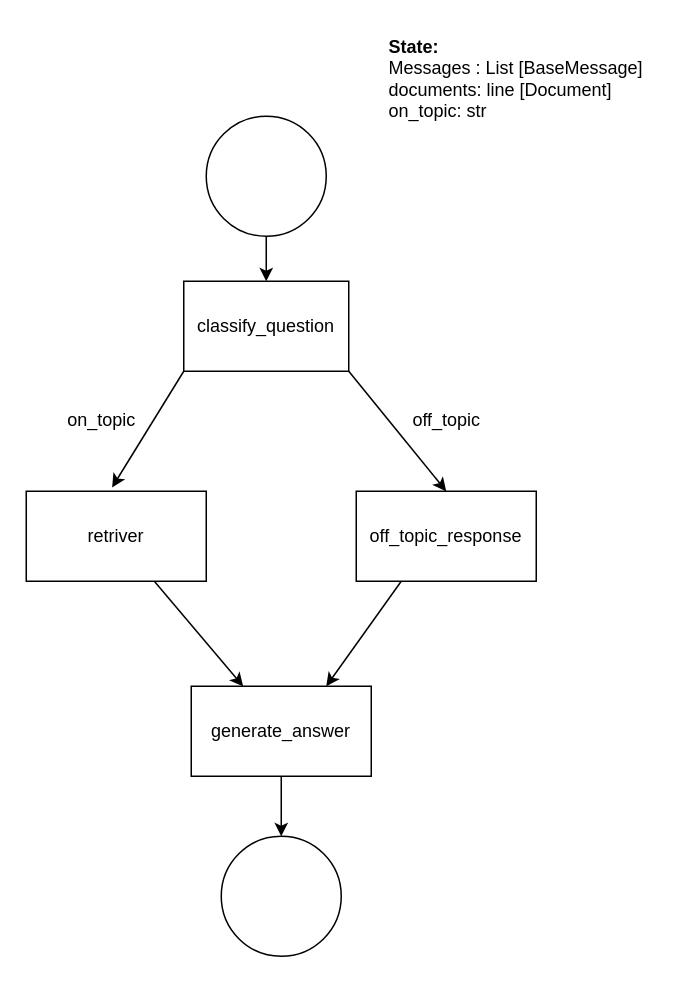
The diagram is 698 pixels wide and 983 high, and some of its shapes have lost their labels. Each missing label, with the box of its shape:
end: (220, 835, 341, 956)
Start: (205, 115, 326, 236)
